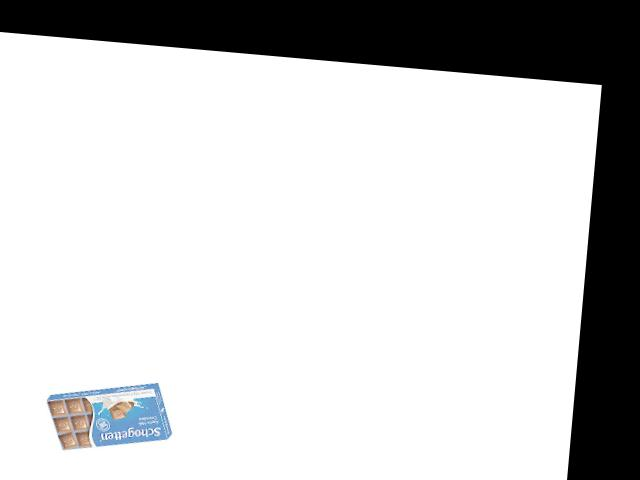chocolate: (40, 383, 177, 459)
